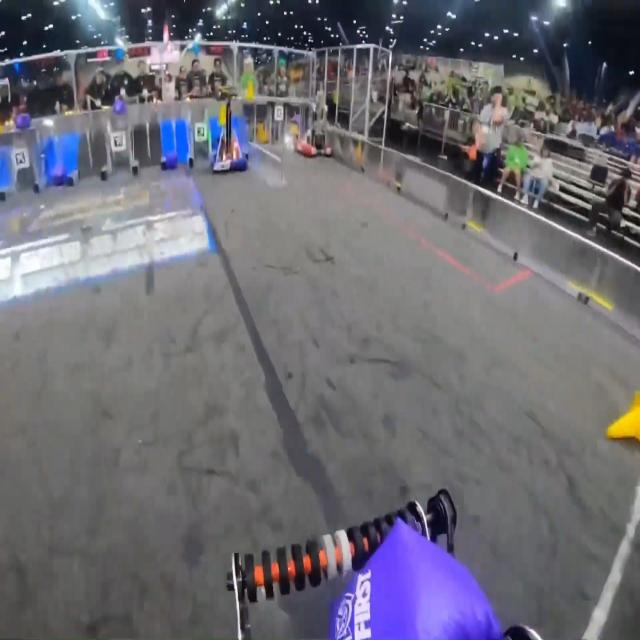robot: (210, 82, 248, 175), (294, 93, 334, 158)
